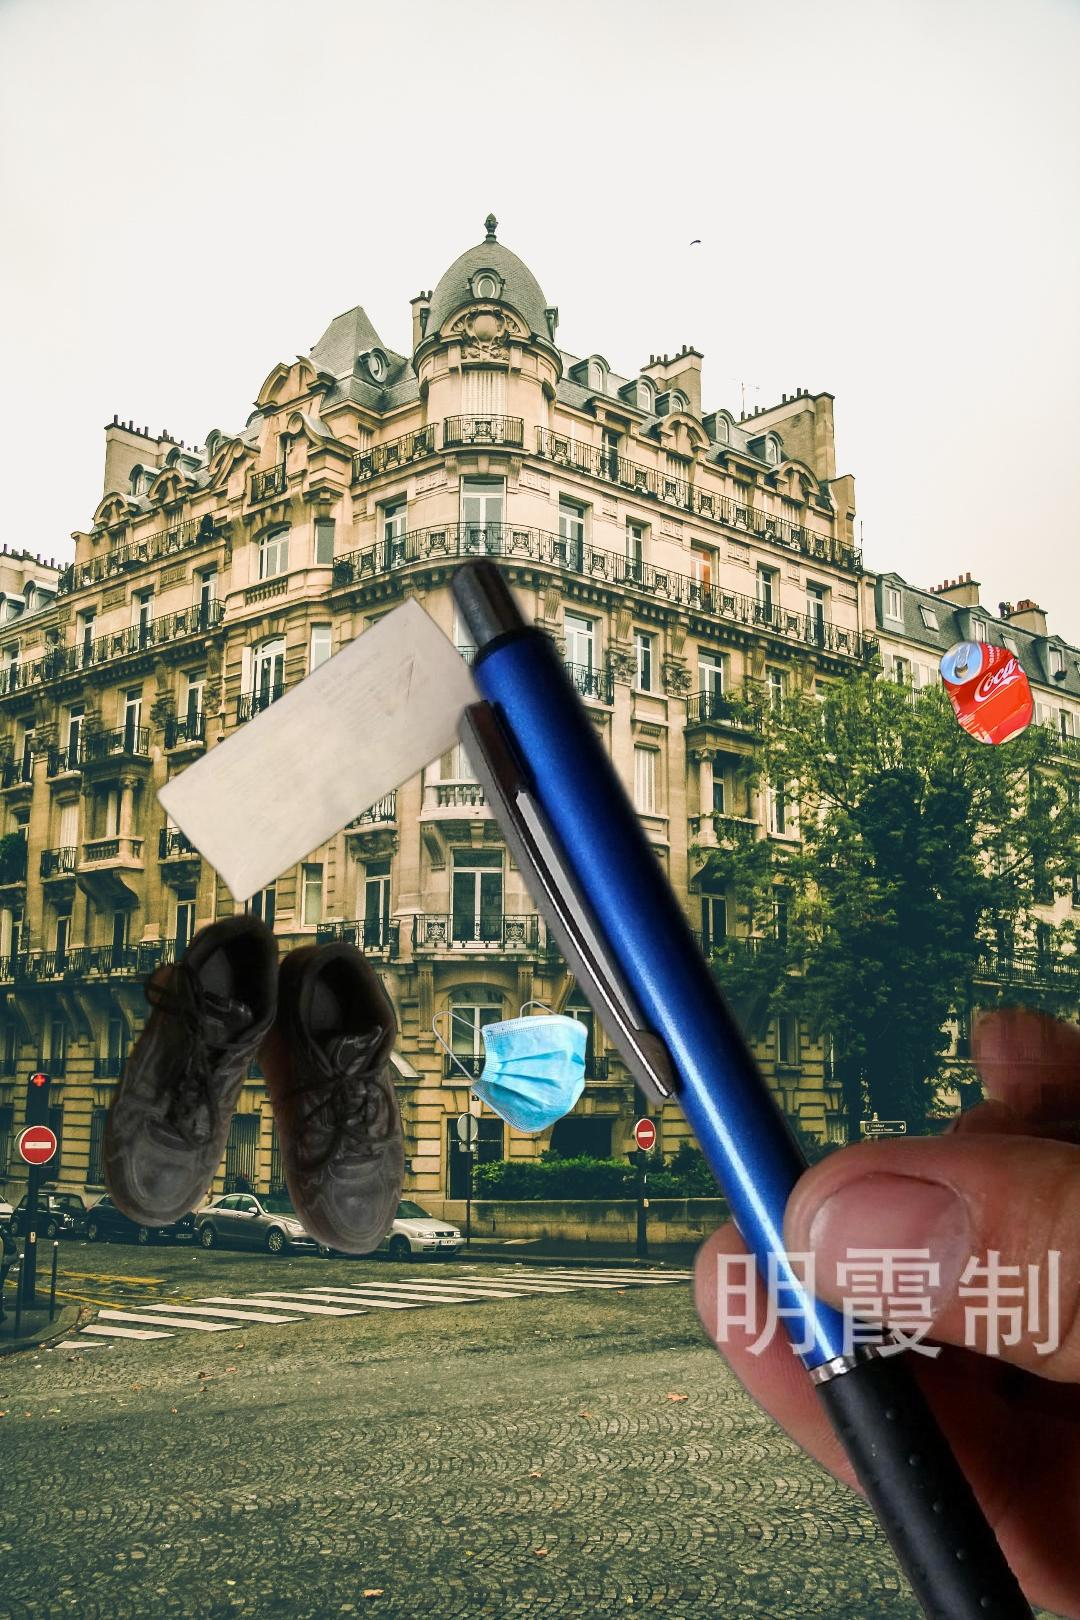metal-cans: (935, 634, 1038, 752)
paper: (149, 592, 504, 908)
penholder: (438, 541, 1080, 1620)
plastic-bottles: (900, 1135, 1080, 1452)
shoes: (96, 900, 407, 1262)
trash: (432, 998, 591, 1135)
